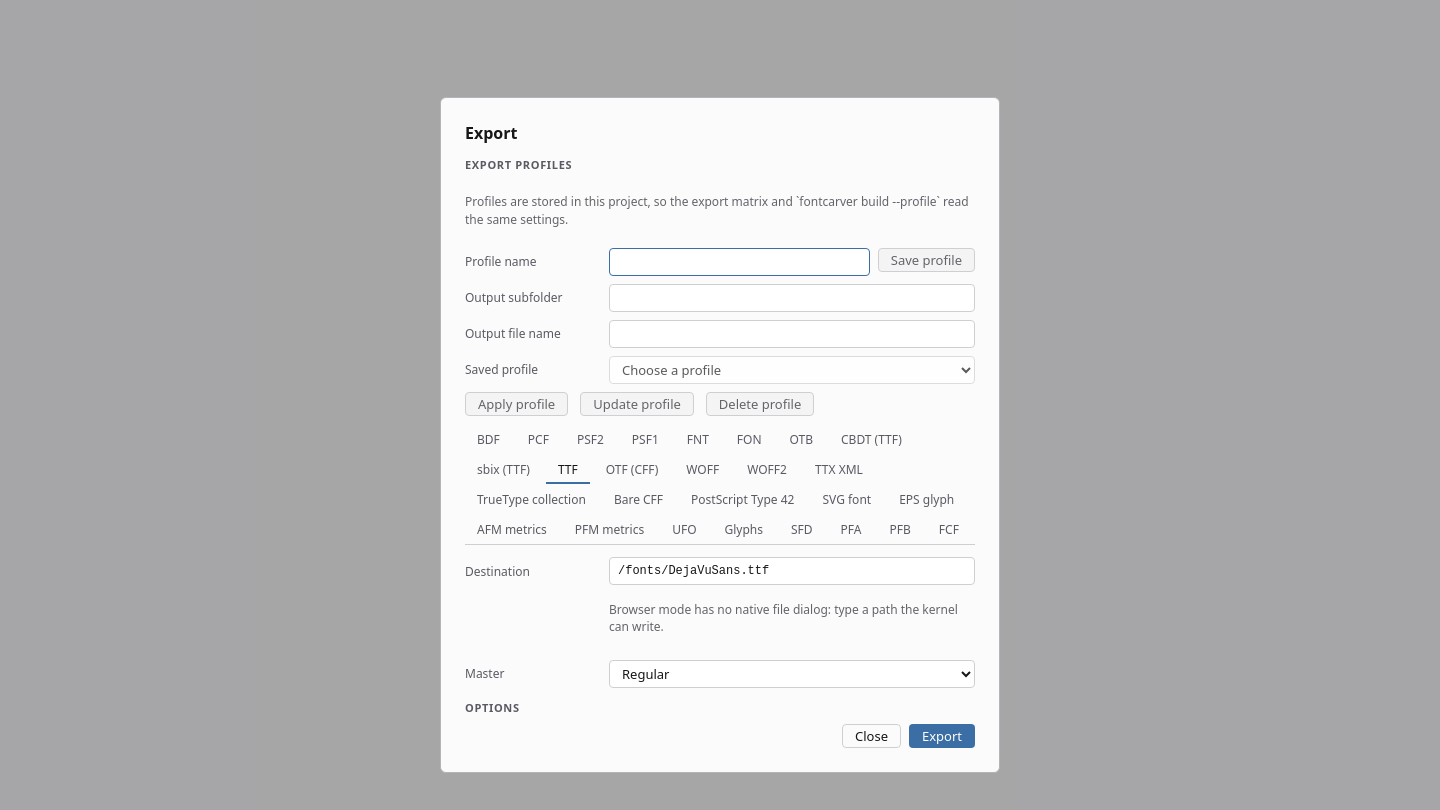
Test: ExportDialog › discloses Type 1 loss before exporting PFB
Click the tab "PFB" at (900, 531), box [878,518,923,544]
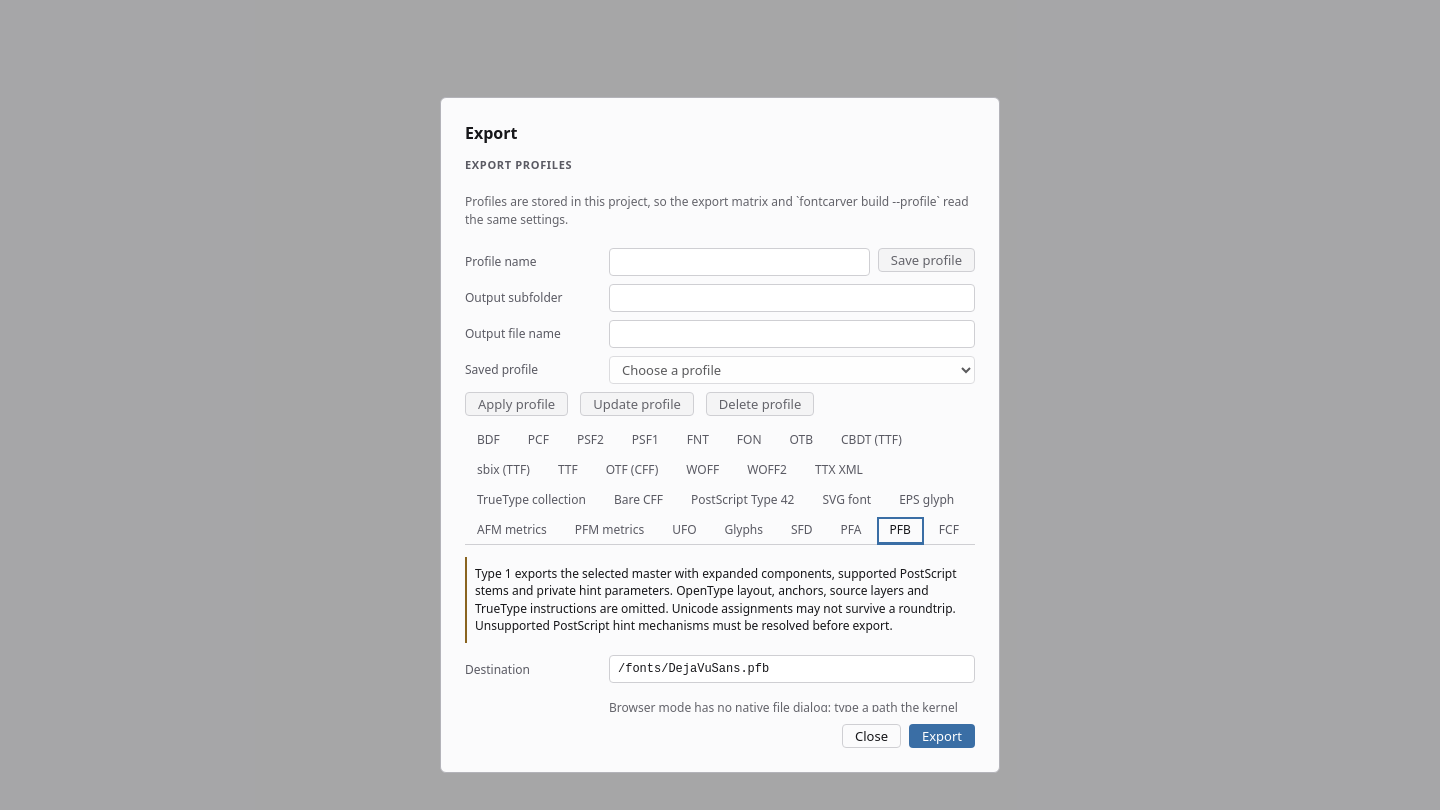
Now the text "OpenType layout, anchors, source layers and TrueType instructions are omitted" is shown, box [475,565,956,634]
